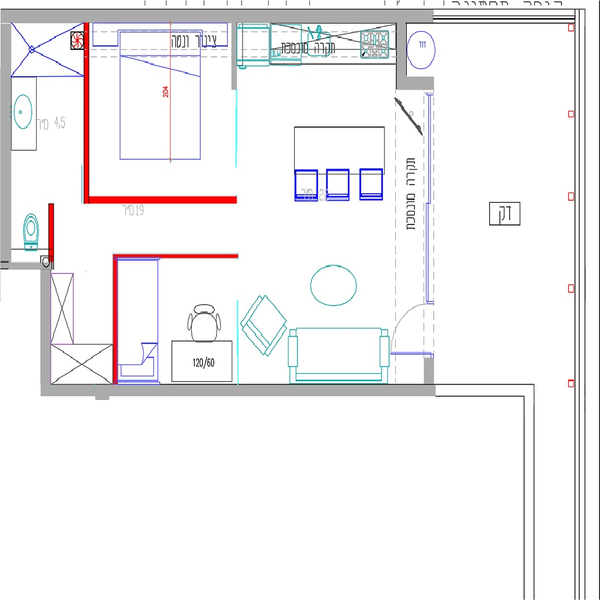wall: (11, 8, 430, 24), (52, 384, 435, 396), (1, 5, 12, 267), (38, 265, 52, 391), (87, 197, 231, 206), (84, 25, 90, 205), (117, 252, 238, 260), (395, 27, 409, 75), (114, 255, 119, 381), (48, 203, 56, 265), (396, 77, 432, 90)
